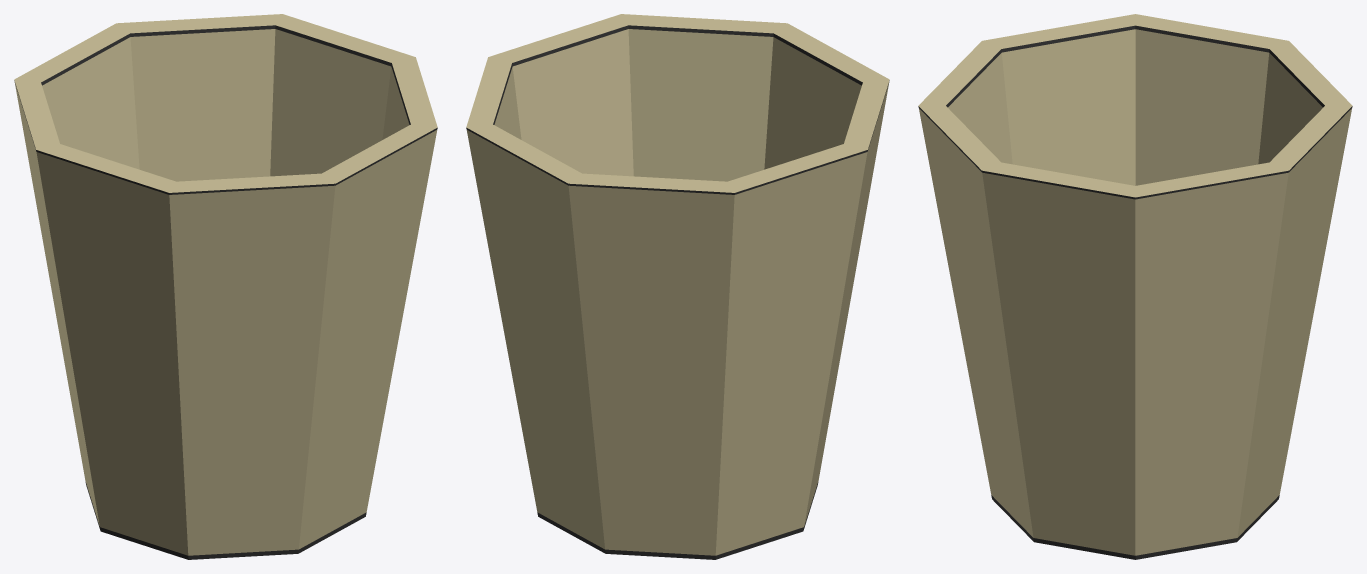
File: Wastepaper_Bin.fbx
The picture shows the model from 3 angles, left to right: view 1: azimuth 30°, elevation 25°; view 2: azimuth 150°, elevation 25°; view 3: azimuth 270°, elevation 25°; orthographic projection.
Visible parts, largest first — view 1: Wastepaper_Bin1; view 2: Wastepaper_Bin1; view 3: Wastepaper_Bin1.
Boxes of the visible parts, x1,y1,x2,y2 form: Wastepaper_Bin1: (14,14,437,559); Wastepaper_Bin1: (466,14,889,559); Wastepaper_Bin1: (918,14,1352,559).
Size of the model in its own units: 56.38 by 56.38 by 56.38.
